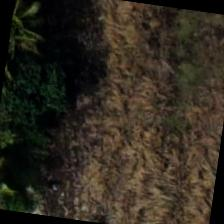Kelapa_Sawit: (5, 0, 65, 75)
